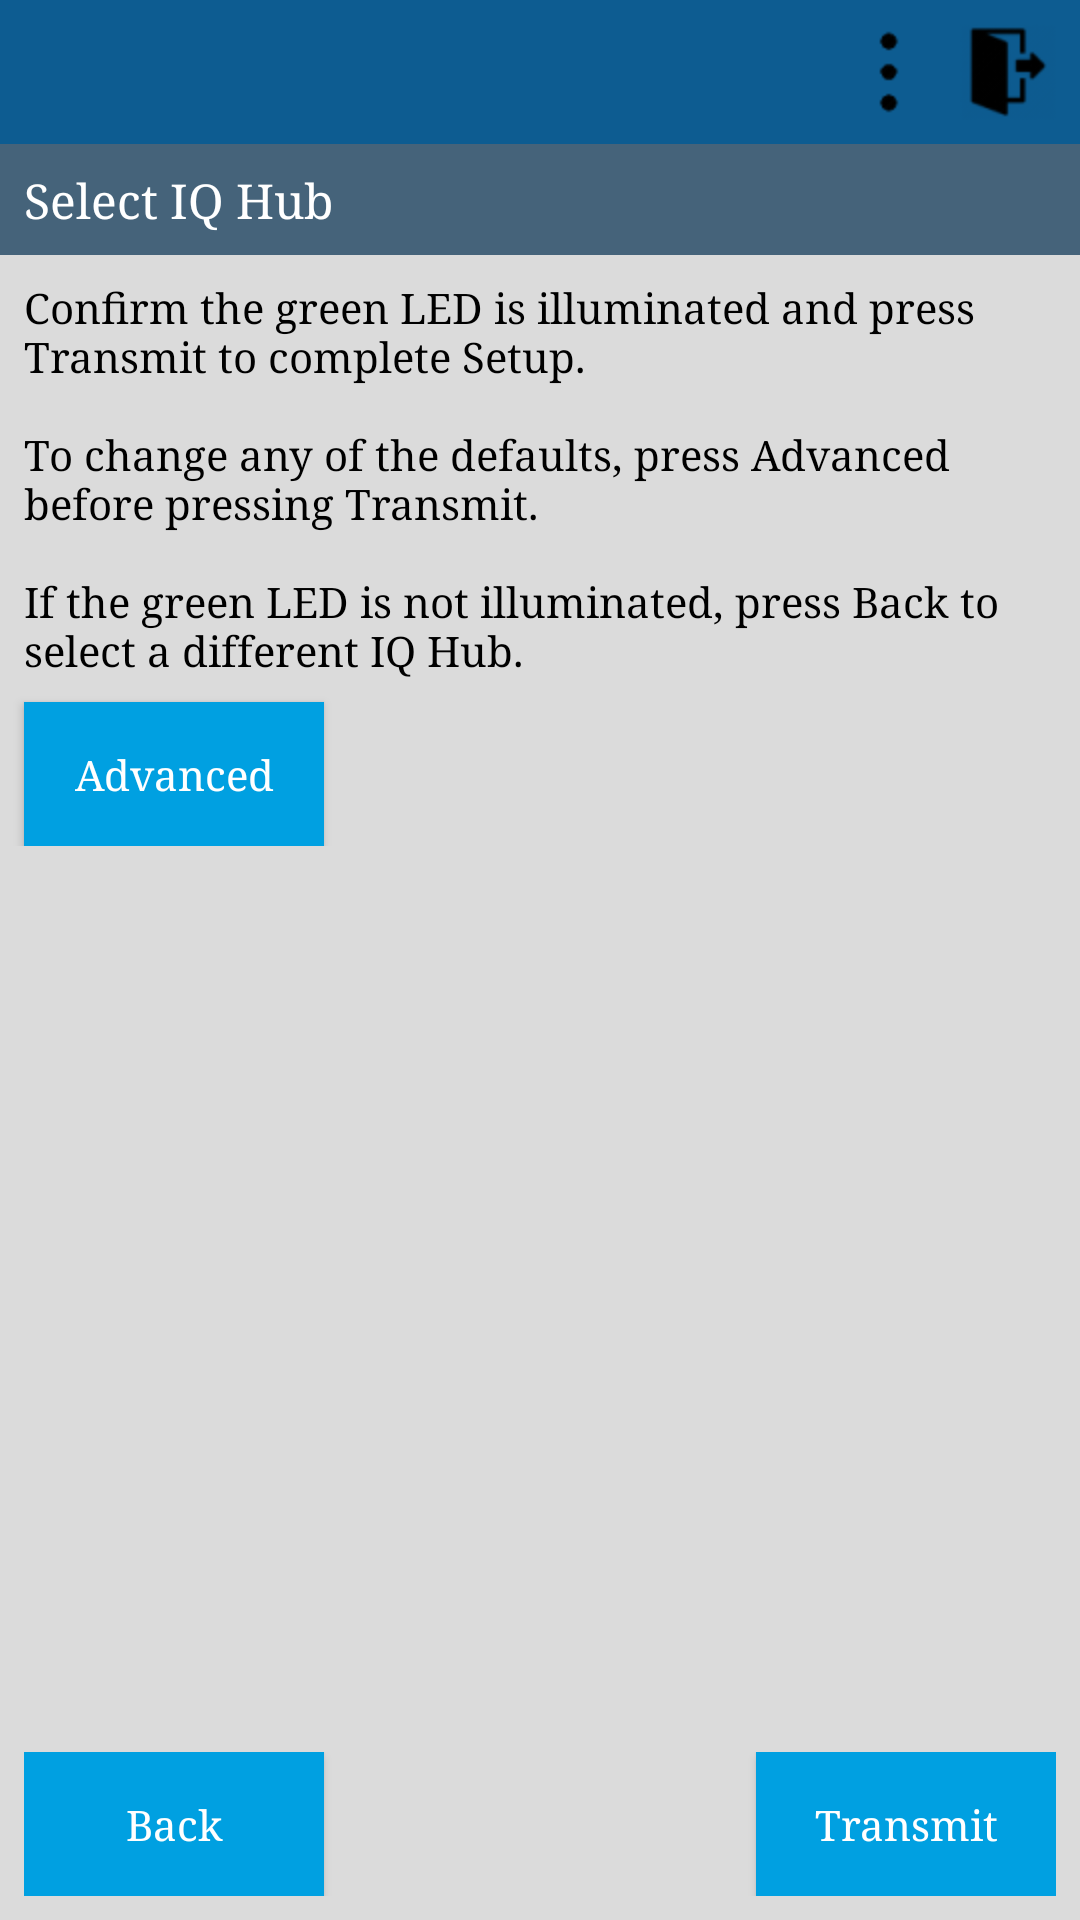

Icons on this 1080*1920 Android screen, each with its box as (x1, y1, x2, y2):
exit: (970, 28, 1046, 116)
